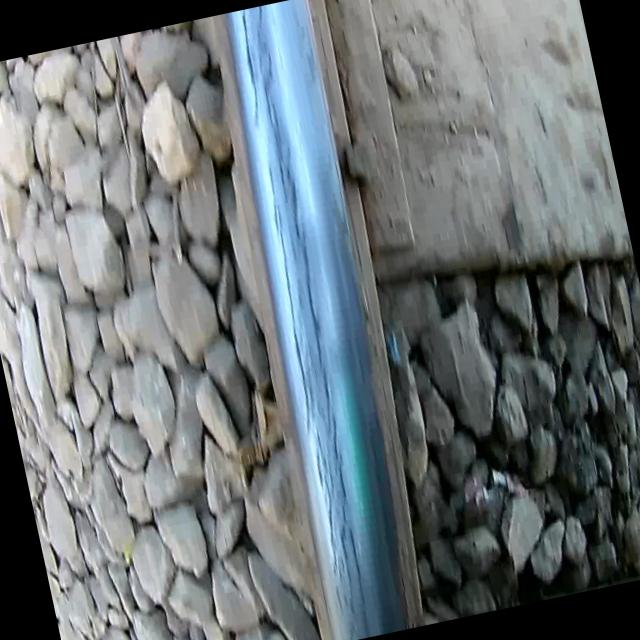Cracks: (208, 3, 402, 640)
